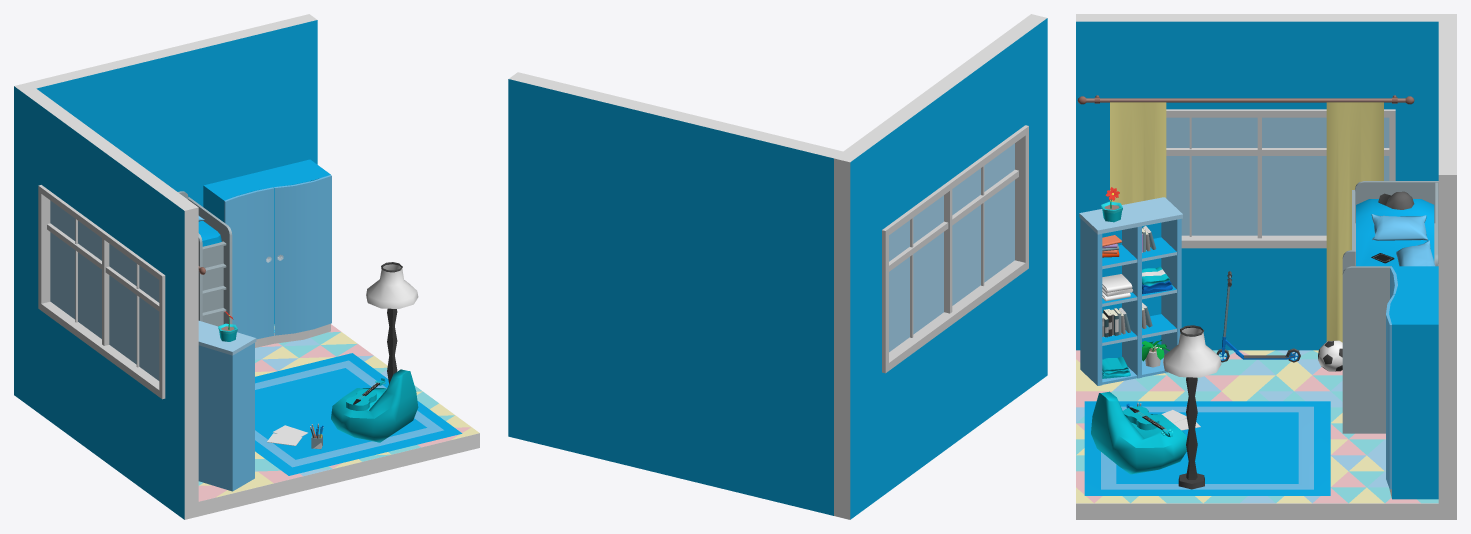
Rendered from room_23.glb.
3 views of the same model, side by side, from view 1: azimuth 30°, elevation 25°; view 2: azimuth 150°, elevation 25°; view 3: azimuth 270°, elevation 25° (orthographic). The views are drawn at different scales.
Parts seen in each view (by area): view 1: Walls_075.006, closet_032.001, window_006.002, Walls_075.009, carpet_007.001, Walls_075.010, Walls_075.008, Walls_075.007, shelf_062.001, floor_022.001, Walls_006.045, bed_019.001 (+3 smaller); view 2: Walls_075.006, window_006.002, Walls_075.007, Walls_075.009, Walls_075.010, Walls_075.008; view 3: Walls_075.010, window_006.002, carpet_007.001, floor_022.001, bed_019.001, Walls_075.009, shelf_062.001, closet_032.001, Walls_075.006, Walls_075.008, Curtains_027.005, Walls_075.007 (+15 smaller).
Boxes of the visible parts, left/top/right/bottom form: Walls_075.006: left=28, top=14, right=317, bottom=206; closet_032.001: left=203, top=159, right=331, bottom=347; window_006.002: left=38, top=185, right=165, bottom=399; Walls_075.009: left=42, top=312, right=164, bottom=504; carpet_007.001: left=255, top=353, right=462, bottom=475; Walls_075.010: left=42, top=103, right=177, bottom=274; Walls_075.008: left=164, top=192, right=198, bottom=519; Walls_075.007: left=14, top=82, right=55, bottom=415; shelf_062.001: left=198, top=320, right=256, bottom=491; floor_022.001: left=198, top=324, right=479, bottom=501; Walls_006.045: left=198, top=433, right=479, bottom=516; bed_019.001: left=178, top=191, right=232, bottom=326; Walls_075.006: left=508, top=72, right=842, bottom=515; window_006.002: left=882, top=125, right=1028, bottom=373; Walls_075.007: left=834, top=134, right=882, bottom=519; Walls_075.009: left=883, top=272, right=1023, bottom=495; Walls_075.010: left=867, top=31, right=1023, bottom=228; Walls_075.008: left=1008, top=14, right=1047, bottom=392; Walls_075.010: left=1121, top=14, right=1393, bottom=109; window_006.002: left=1166, top=109, right=1395, bottom=248; carpet_007.001: left=1084, top=401, right=1330, bottom=495; floor_022.001: left=1076, top=350, right=1438, bottom=503; bed_019.001: left=1342, top=181, right=1438, bottom=433; Walls_075.009: left=1181, top=248, right=1326, bottom=350; shelf_062.001: left=1079, top=197, right=1182, bottom=385; closet_032.001: left=1386, top=266, right=1438, bottom=499; Walls_075.006: left=1438, top=21, right=1456, bottom=519; Walls_075.008: left=1076, top=14, right=1121, bottom=350; Curtains_027.005: left=1326, top=102, right=1383, bottom=342; Walls_075.007: left=1393, top=14, right=1456, bottom=180.
Bounding box in the file's own units: 4.25 × 4.2 × 4.2.
1 material, 1 textured.
